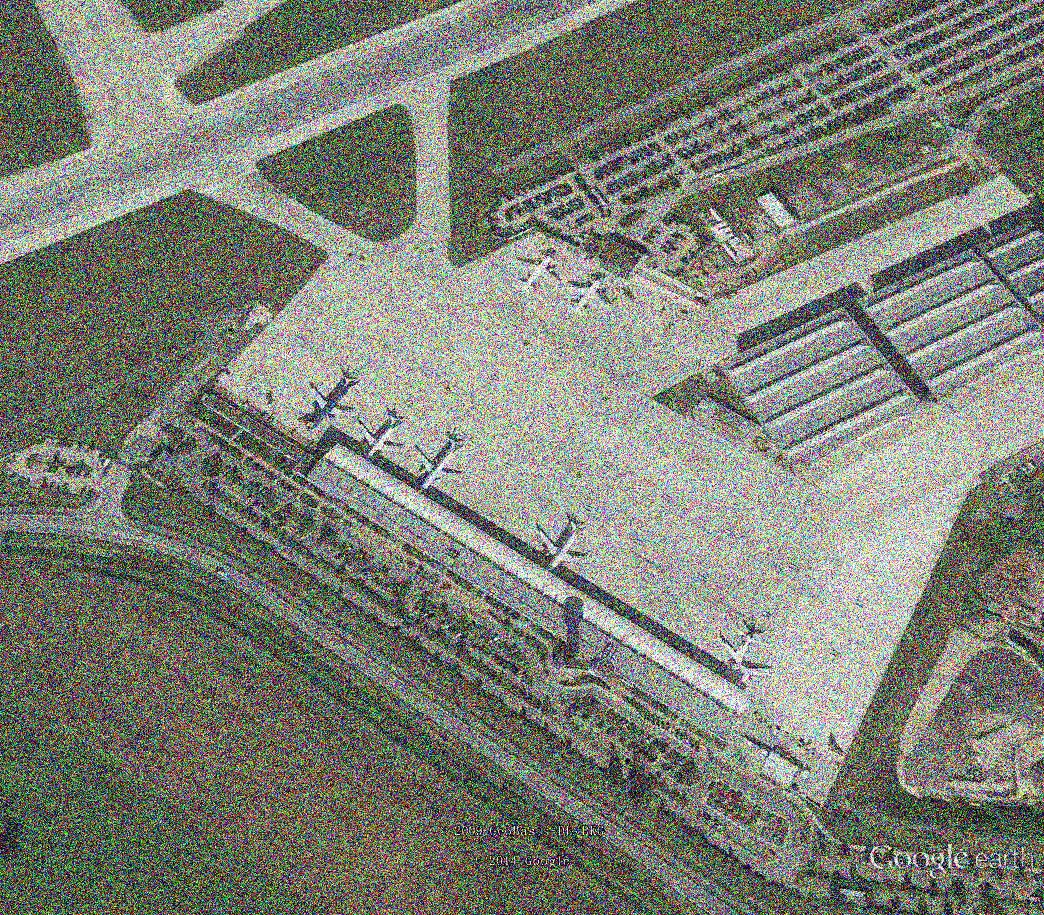aircraft: (411, 430, 474, 498), (534, 510, 597, 576), (307, 369, 361, 435), (717, 624, 768, 691), (355, 408, 409, 466), (508, 250, 564, 300), (562, 274, 612, 324)
